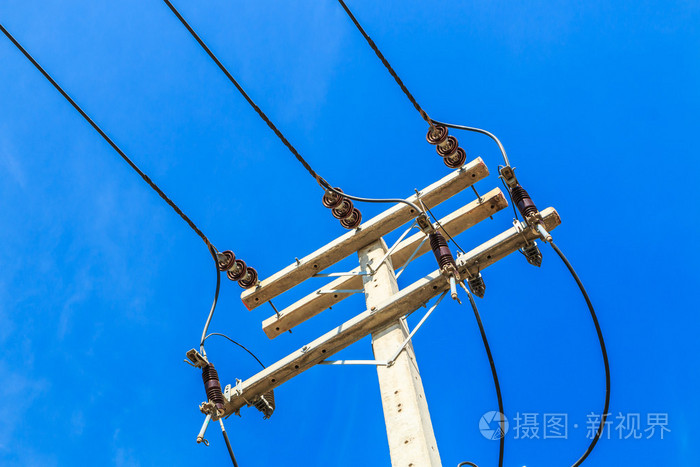insulator: (427, 122, 469, 169), (319, 189, 364, 230), (216, 251, 259, 291)
